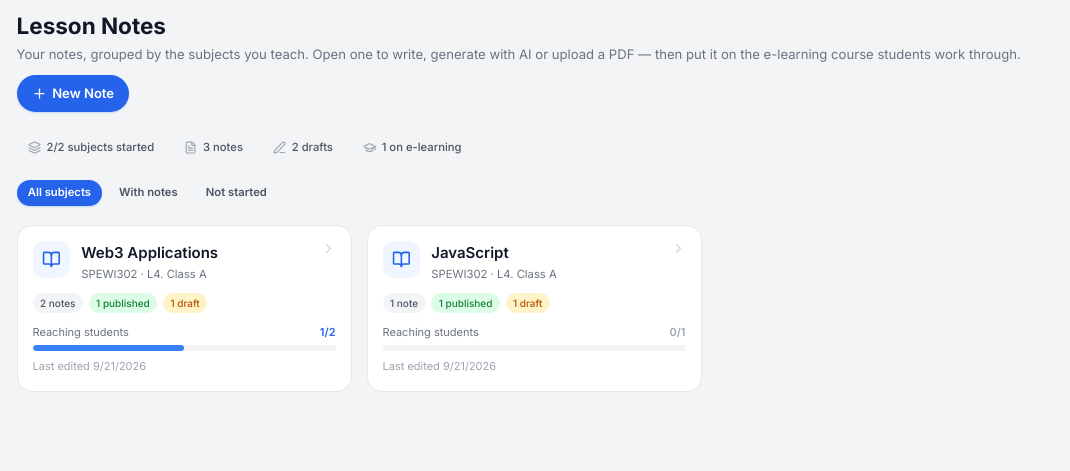
Test: LessonNotesListPage — subject-first browsing and e-learning linkage › re-reads the list after the edit form saves (the note may have changed subject)
Click the heading "Web3 Applications". click: (150, 252)
box: [81, 243, 218, 262]
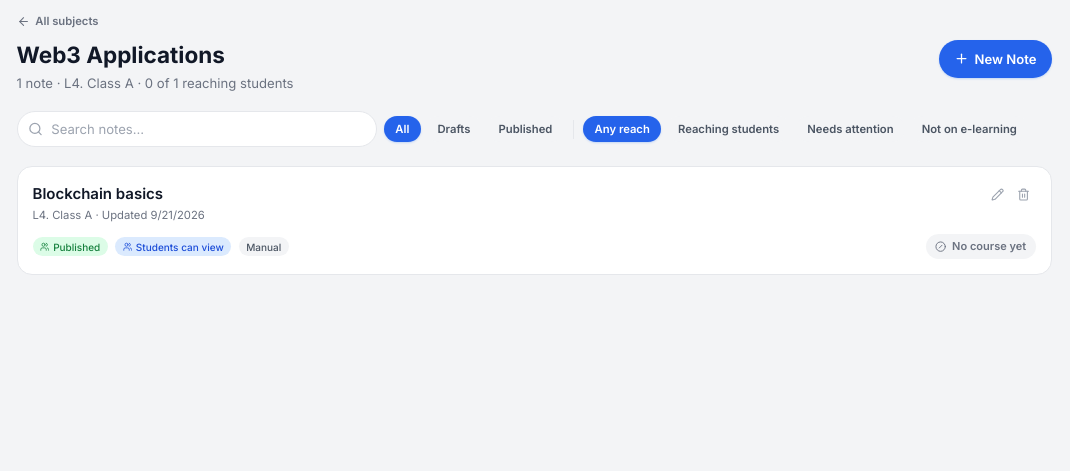
Click the button named "Edit Blockchain basics". click: (997, 194)
box: [985, 182, 1009, 206]
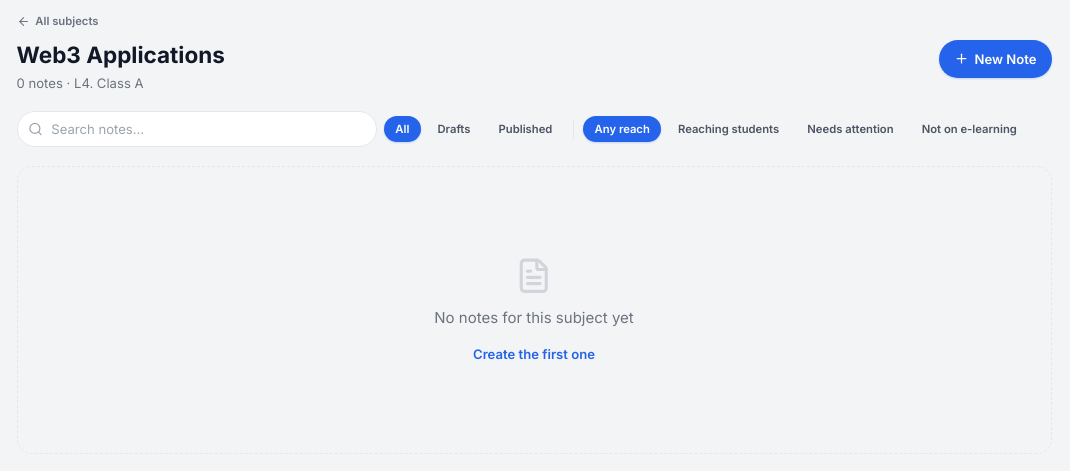
Check: the button "Blockchain basics" is gone
